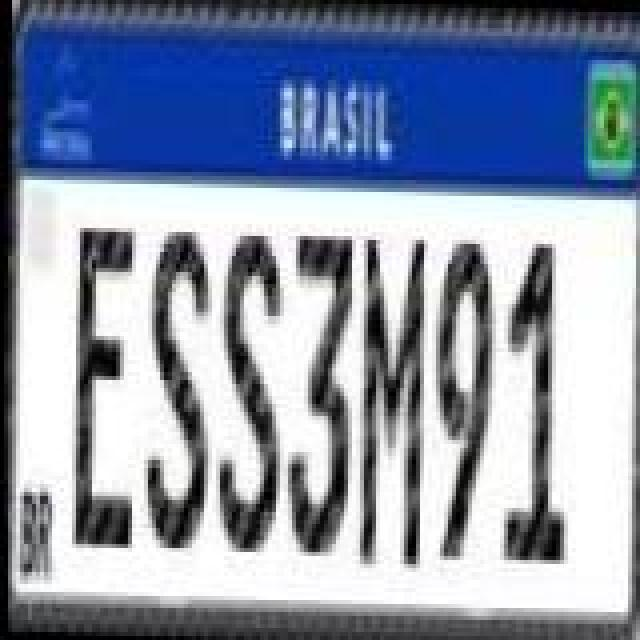1: (494, 230, 574, 570)
3: (278, 228, 358, 556)
9: (420, 228, 496, 564)
E: (62, 214, 142, 554)
M: (352, 234, 428, 570)
S: (136, 218, 220, 546), (210, 220, 290, 560)
